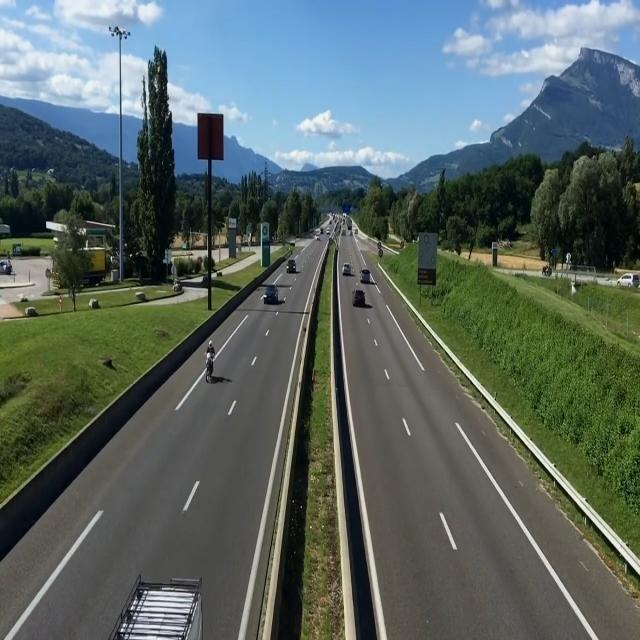Car: (617, 272, 640, 288), (264, 283, 278, 304), (352, 288, 364, 307), (0, 260, 12, 275), (359, 270, 371, 284), (286, 259, 296, 273), (342, 263, 353, 275)
Cycle: (204, 351, 215, 381)
Truck: (347, 219, 353, 230)
Van: (106, 573, 205, 640)
